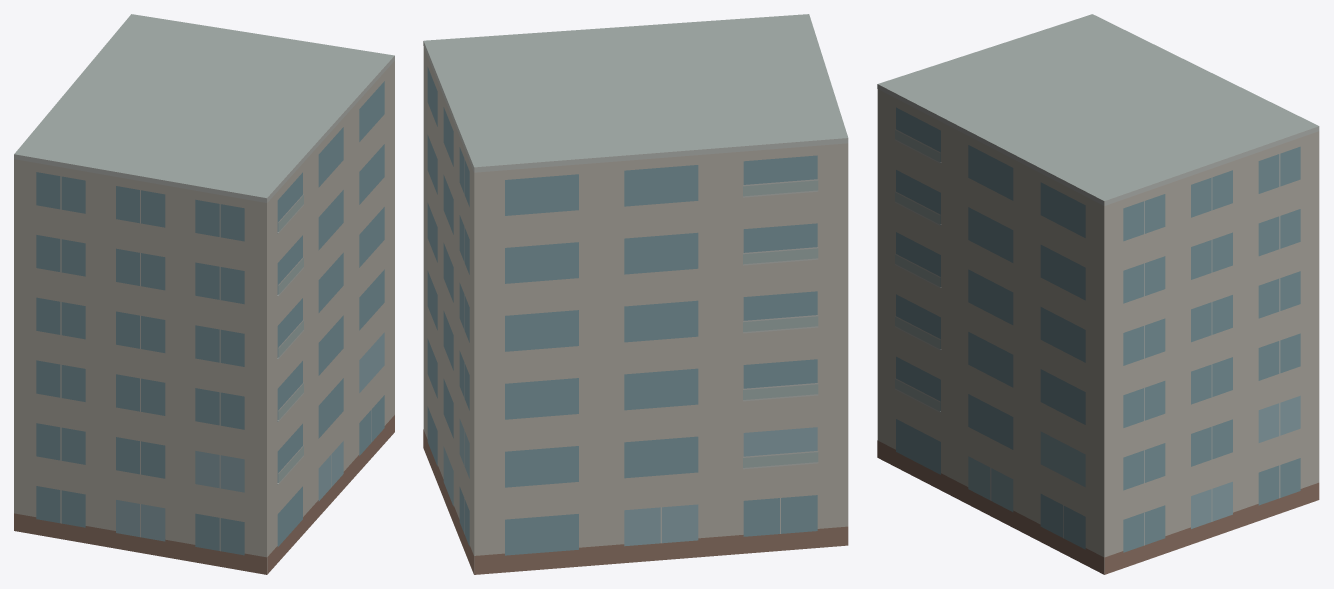
File: survey-upis-32845696.glb
3 renders of one model, left to right at view 1: azimuth 30°, elevation 25°; view 2: azimuth 150°, elevation 25°; view 3: azimuth 270°, elevation 25°, orthographic. The views are drawn at different scales.
Visible parts, largest first — view 1: survey-upis-32845696.tmp; view 2: survey-upis-32845696.tmp; view 3: survey-upis-32845696.tmp.
Part boxes in pixels (x1=…): survey-upis-32845696.tmp: x1=14, y1=14, x2=394, y2=574; survey-upis-32845696.tmp: x1=423, y1=14, x2=848, y2=574; survey-upis-32845696.tmp: x1=877, y1=14, x2=1319, y2=574.
Bounding box in the file's own units: 20.05 × 18.65 × 19.99.
